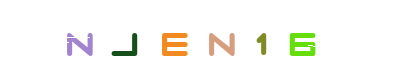1: (183, 0, 263, 80)
6: (252, 0, 332, 80)
E: (133, 0, 213, 80)
J: (88, 0, 168, 80)
N: (40, 0, 120, 80), (160, 0, 240, 80)
